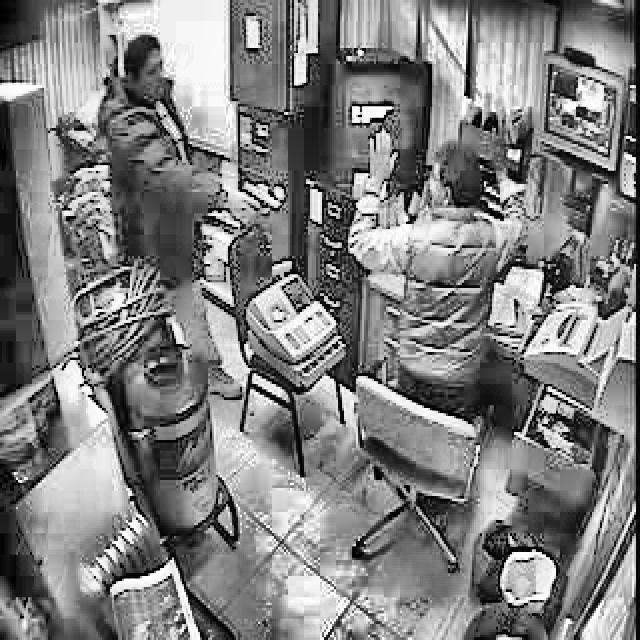robbery: (96, 31, 284, 294), (341, 121, 531, 279)
